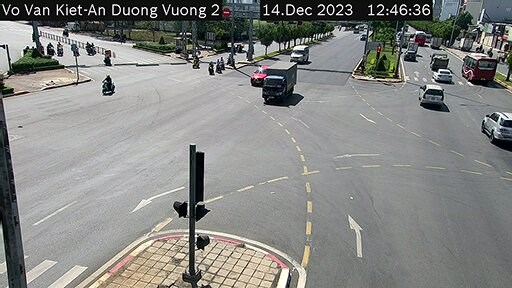car: (479, 106, 511, 146), (463, 50, 493, 90), (417, 82, 444, 113), (290, 37, 312, 70), (250, 60, 268, 87), (402, 47, 415, 67), (435, 68, 448, 87)
motorbike: (97, 75, 118, 98), (214, 54, 231, 75), (203, 60, 219, 79), (210, 57, 225, 77), (100, 50, 116, 66), (189, 55, 202, 72)
truck: (265, 62, 296, 106), (429, 47, 451, 70), (405, 40, 420, 59), (432, 35, 446, 53)
